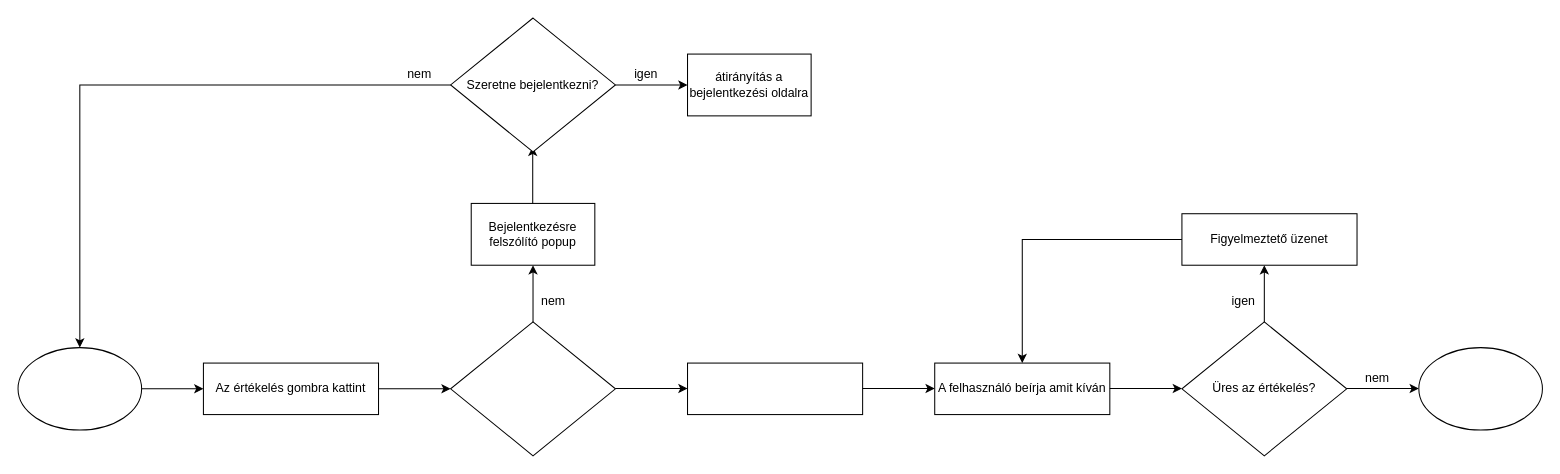
Some shapes in this 1560 by 474 pixel diagram are drawn without their labels. Here are the shapes that lost their labels. From the top down, the centre of each, then its label:
point (79, 388): A felhasználó egy termék oldalát szemléli
point (532, 388): Be van jelentkezve?
point (774, 388): Megjelenik egy szöveg doboz és egy publikálás gomb
point (1480, 388): Az értékelés felkerül az adatbáziba. Az oldal frissül.
